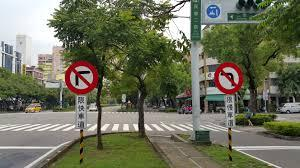no_left_turn: (214, 61, 242, 92)
no_right_turn: (63, 60, 97, 93)
